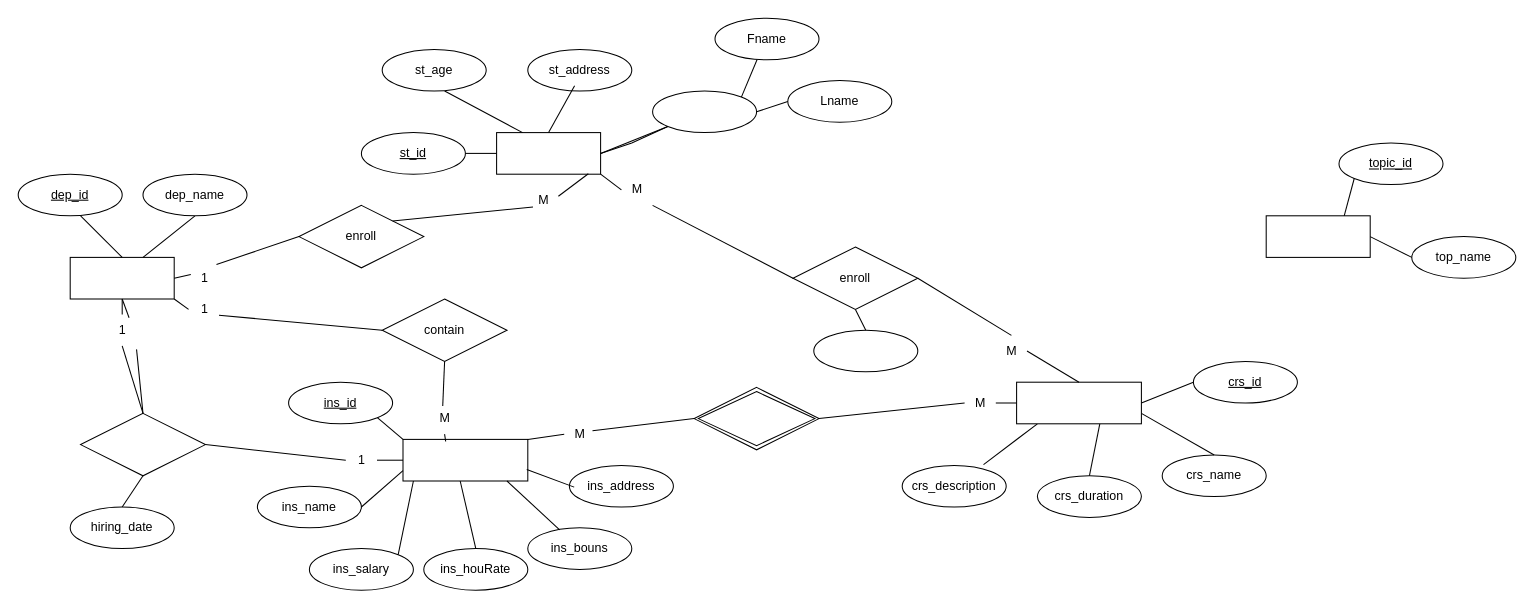
This 1534x608 diagram has some shape labels left out. The box of each missing label's shape, as (x1, y1, x2, y2) in pixels:
Courses: (1016, 381, 1141, 424)
Departments: (69, 256, 174, 299)
grade: (813, 329, 918, 372)
Instructors: (402, 438, 528, 481)
manage: (80, 412, 205, 476)
st_name: (652, 90, 757, 133)
Students: (496, 132, 601, 174)
teach: (693, 386, 819, 450)
Topics: (1265, 215, 1370, 257)
